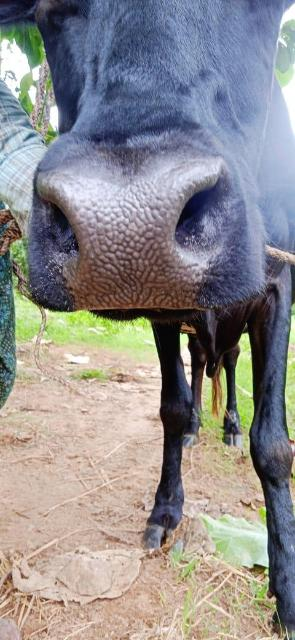Muzzle: (45, 168, 207, 306)
